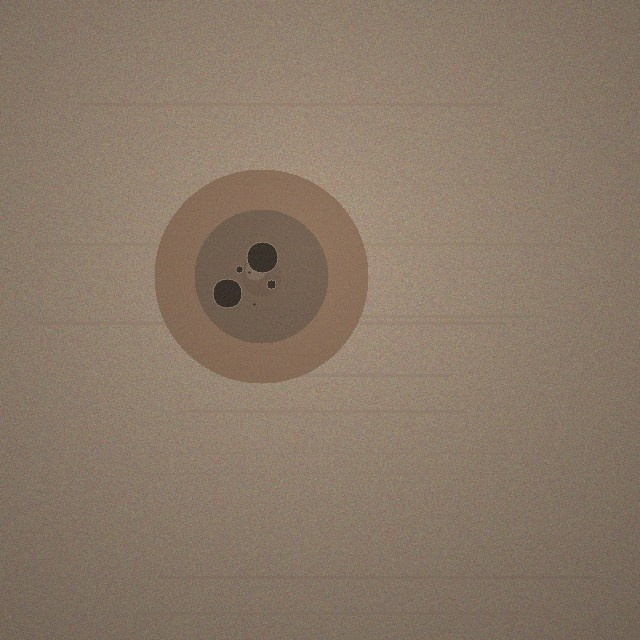shrinkage: (154, 169, 368, 383)
